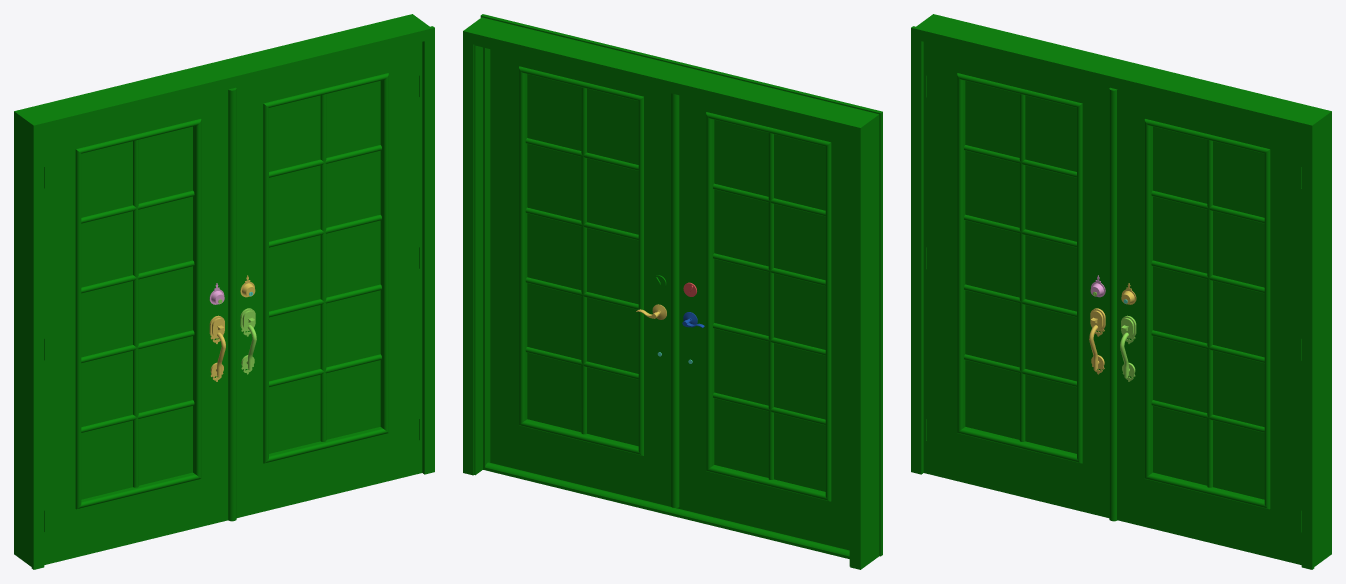
3 views of the same model, side by side, from view 1: azimuth 30°, elevation 25°; view 2: azimuth 150°, elevation 25°; view 3: azimuth 330°, elevation 25° (orthographic).
Visible parts, largest first — view 1: Group_001, Bowman_Entry_Handle_003, Bowman_Entry_Handle_001; view 2: Group_001; view 3: Group_001, Bowman_Entry_Handle_003, Bowman_Entry_Handle_001.
Boxes of the visible parts, x1,y1,x2,y2 form: Group_001: (14, 14, 434, 569); Bowman_Entry_Handle_003: (209, 315, 225, 381); Bowman_Entry_Handle_001: (240, 308, 256, 374); Group_001: (463, 14, 882, 569); Group_001: (911, 14, 1331, 569); Bowman_Entry_Handle_003: (1089, 308, 1105, 374); Bowman_Entry_Handle_001: (1120, 315, 1136, 381).
Bounding box in the file's own units: 77 × 81.5 × 9.01.
